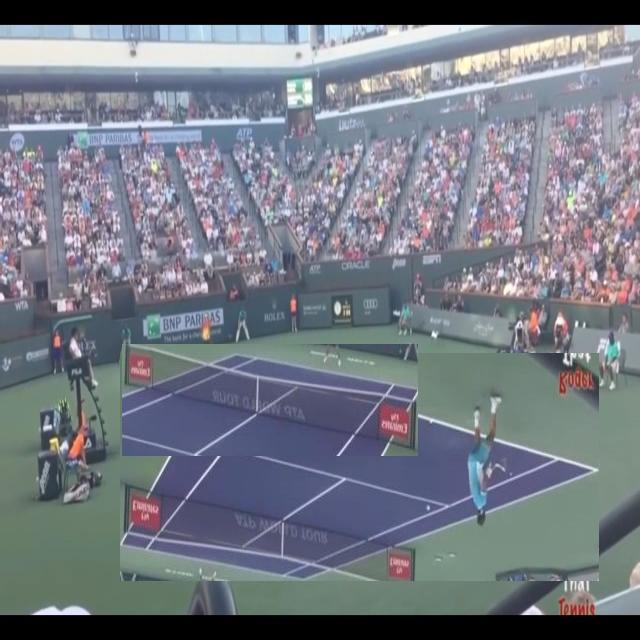court: (120, 353, 599, 581)
net: (122, 344, 418, 456)
player: (466, 407, 516, 540)
